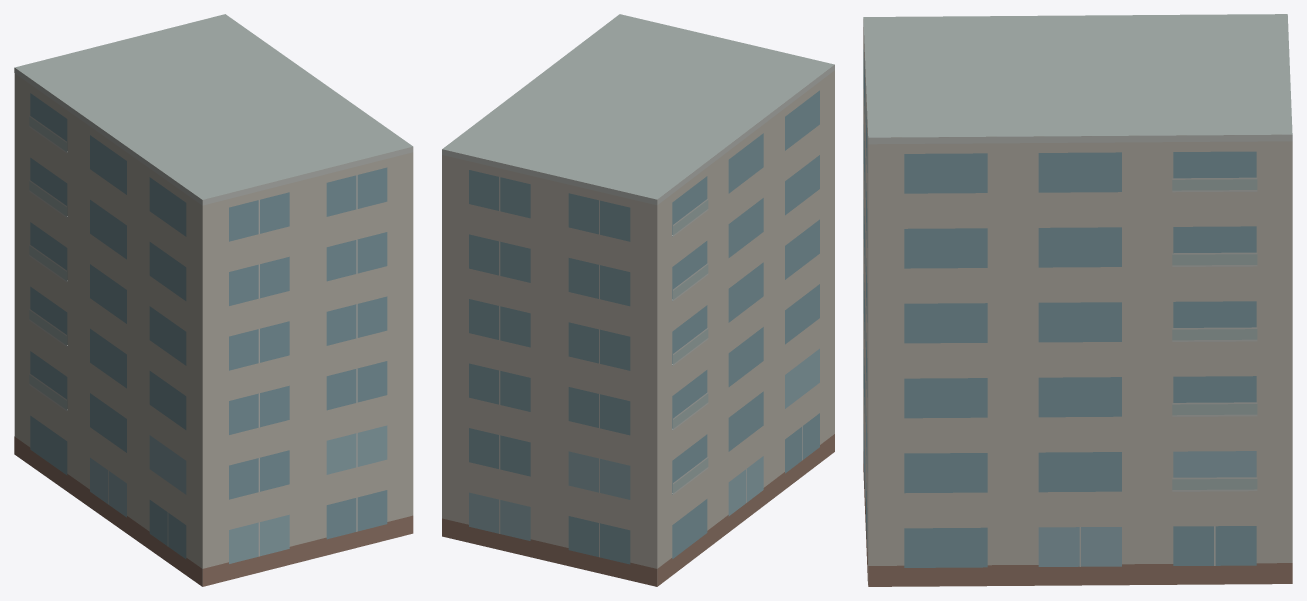
The model's file is survey-upis-32974132.glb.
3 renders of one model, left to right at view 1: azimuth 30°, elevation 25°; view 2: azimuth 150°, elevation 25°; view 3: azimuth 270°, elevation 25°, orthographic. The views are drawn at different scales.
Parts seen in each view (by area): view 1: survey-upis-32974132.tmp; view 2: survey-upis-32974132.tmp; view 3: survey-upis-32974132.tmp.
Part boxes in pixels (box(x1,y1,x2,y2)): survey-upis-32974132.tmp: box(14, 14, 413, 586); survey-upis-32974132.tmp: box(442, 14, 834, 586); survey-upis-32974132.tmp: box(863, 14, 1292, 586).
Size of the model in its own units: 9.82 by 16.6 by 14.38.
